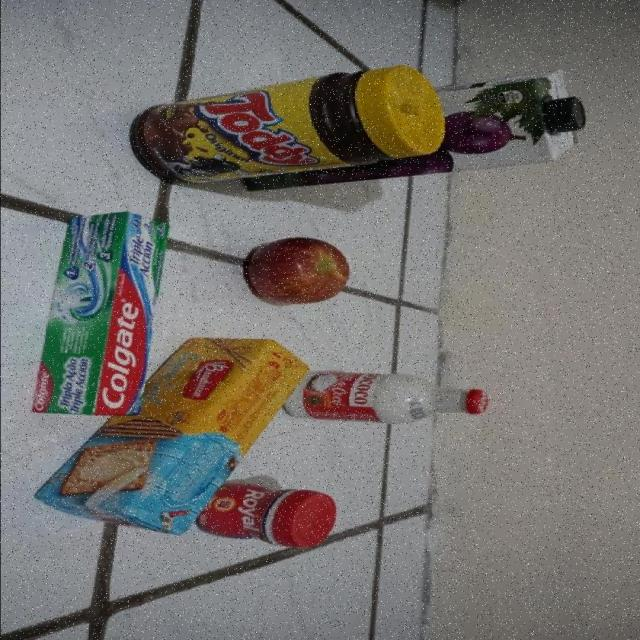Apple: (246, 238, 350, 305)
ChocolatePowder: (128, 64, 445, 185)
CoconutMilk: (272, 370, 490, 425)
Cracker: (31, 337, 310, 537)
Toothpaste: (28, 212, 174, 416)
Yeast: (194, 485, 339, 549)
